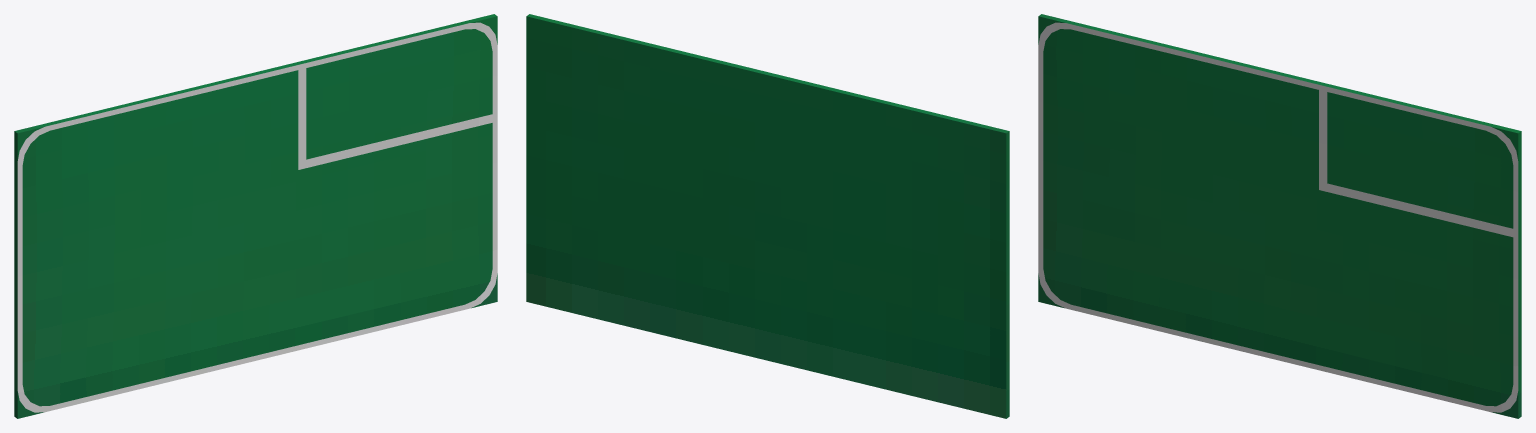
Rendered from Highway_Segment_Sign_Billboard02.fbx.
3 views of the same model, side by side, from view 1: azimuth 30°, elevation 25°; view 2: azimuth 150°, elevation 25°; view 3: azimuth 330°, elevation 25° (orthographic).
Visible parts, largest first — view 1: SM_City_Highway_Sign_Billboard_01c.mo; view 2: SM_City_Highway_Sign_Billboard_01c.mo; view 3: SM_City_Highway_Sign_Billboard_01c.mo.
Boxes of the visible parts, bbox=[...] form: SM_City_Highway_Sign_Billboard_01c.mo: bbox=[14, 14, 497, 418]; SM_City_Highway_Sign_Billboard_01c.mo: bbox=[526, 14, 1009, 418]; SM_City_Highway_Sign_Billboard_01c.mo: bbox=[1038, 14, 1521, 418].
Size of the model in its own units: 305 by 173 by 3.46.
